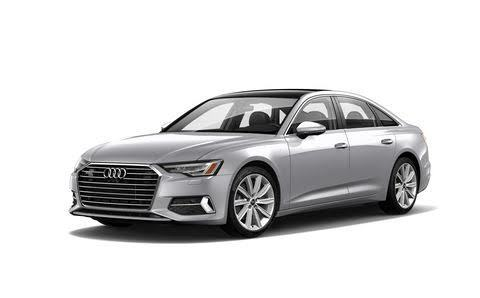audi: (58, 86, 452, 247)
